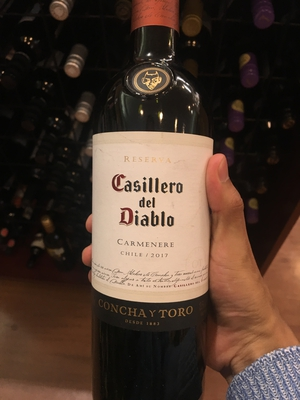casillero del diablo carmenere: (80, 19, 244, 393)
